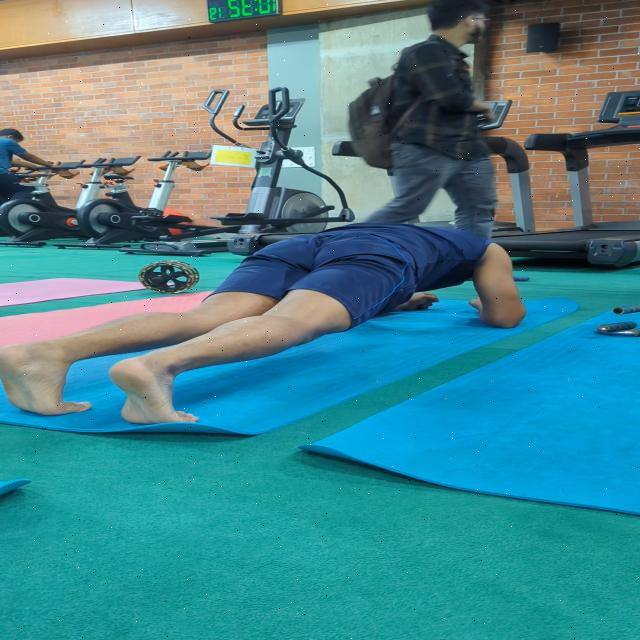Normal_Plunk: (0, 218, 522, 434)
